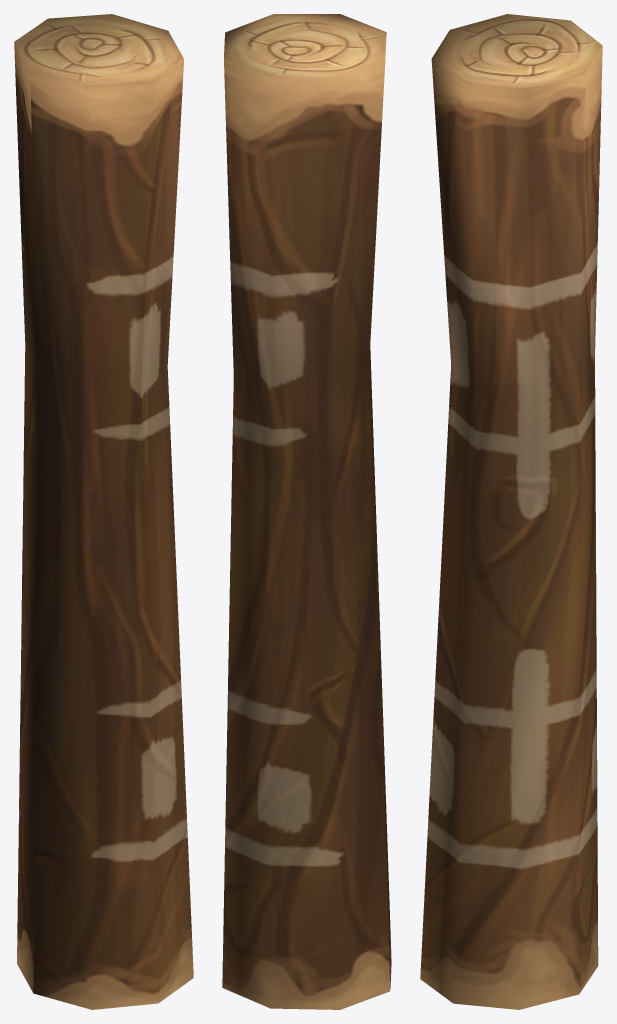
Rendered from wooden_pillar_05.fbx.
The picture shows the model from 3 angles, left to right: view 1: azimuth 30°, elevation 25°; view 2: azimuth 150°, elevation 25°; view 3: azimuth 270°, elevation 25°; orthographic projection.
Parts seen in each view (by area): view 1: wooden_pillar_05; view 2: wooden_pillar_05; view 3: wooden_pillar_05.
Boxes of the visible parts, x1,y1,x2,y2 form: wooden_pillar_05: (14,14,193,1009); wooden_pillar_05: (222,14,391,1009); wooden_pillar_05: (420,14,602,1009).
Size of the model in its own units: 1.56 by 8.93 by 1.6.
